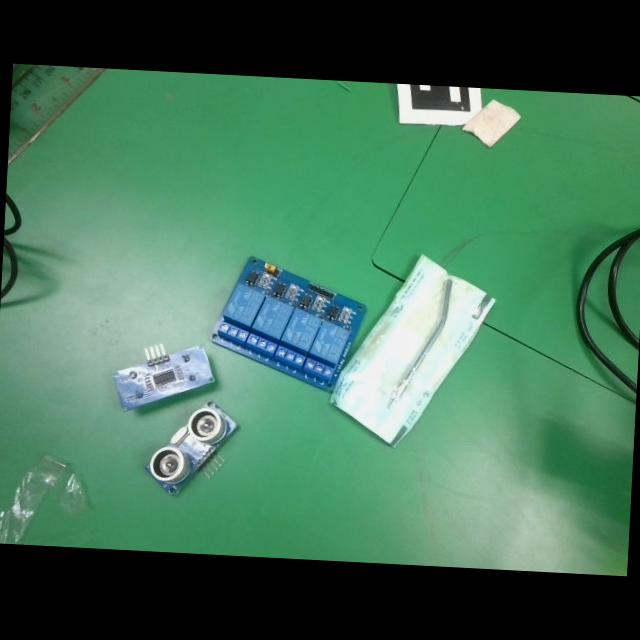relay_module: (208, 255, 368, 394)
triple_syringe: (328, 250, 496, 452)
ultrasonic_hc-sr04: (143, 396, 239, 499), (112, 340, 218, 416)
